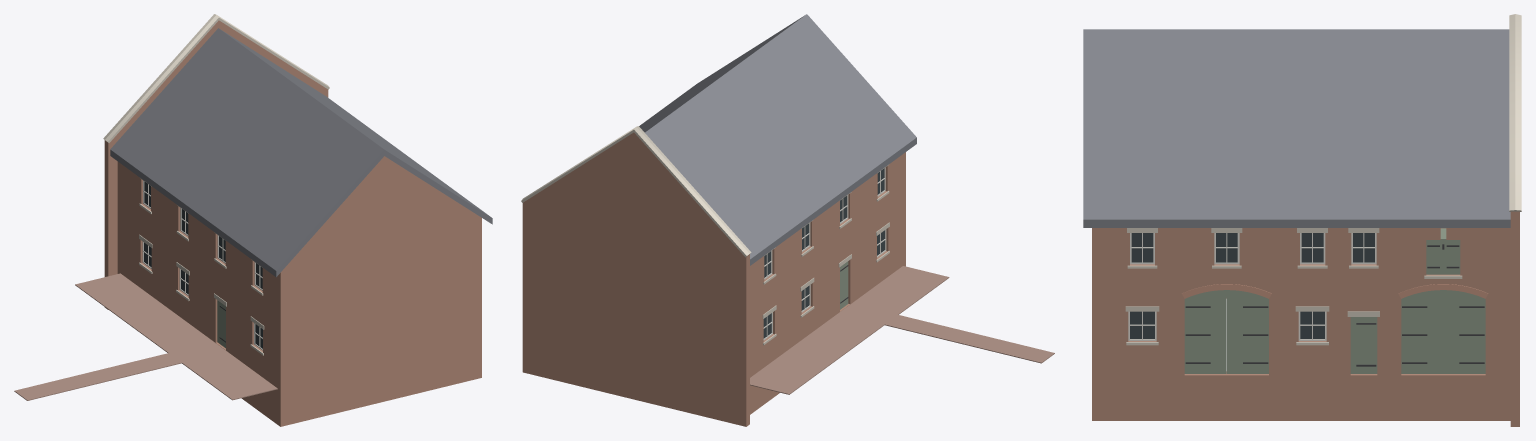
Rendered from house_2017_prairie_coach_house__as_standing_1904.glb.
3 views of the same model, side by side, from view 1: azimuth 30°, elevation 25°; view 2: azimuth 150°, elevation 25°; view 3: azimuth 270°, elevation 25° (orthographic). The views are drawn at different scales.
Parts seen in each view (by area): view 1: house_2017_prairie_coach_house__as_standing_1904; view 2: house_2017_prairie_coach_house__as_standing_1904; view 3: house_2017_prairie_coach_house__as_standing_1904.
Boxes of the visible parts, x1,y1,x2,y2 form: house_2017_prairie_coach_house__as_standing_1904: [14, 14, 492, 426]; house_2017_prairie_coach_house__as_standing_1904: [521, 14, 1054, 426]; house_2017_prairie_coach_house__as_standing_1904: [1083, 14, 1521, 426].
Size of the model in its own units: 22.09 by 13.49 by 15.58.
